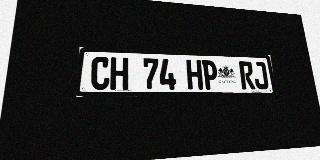4: (159, 59, 176, 90)
7: (142, 58, 159, 90)
C: (90, 57, 110, 90)
H: (110, 57, 128, 90), (186, 60, 203, 90)
J: (252, 62, 269, 89)
P: (201, 60, 219, 90)
R: (239, 61, 255, 89)
